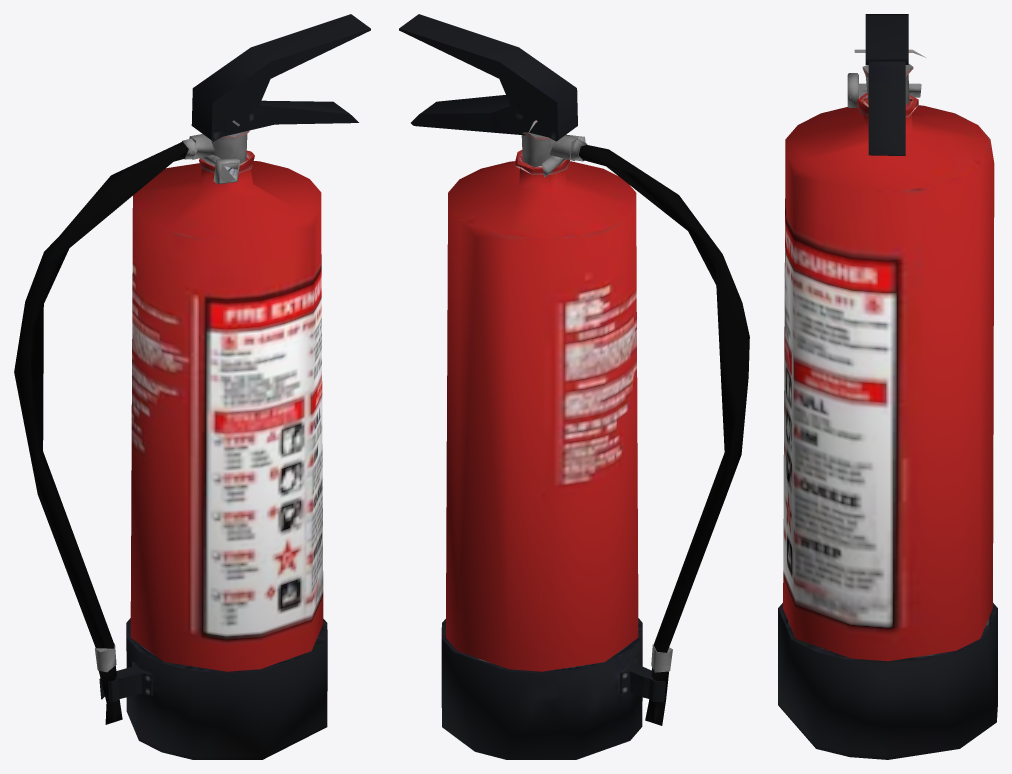
File: fire-ext.lod0.glb
3 renders of one model, left to right at view 1: azimuth 30°, elevation 25°; view 2: azimuth 150°, elevation 25°; view 3: azimuth 270°, elevation 25°, orthographic. The views are drawn at different scales.
Parts seen in each view (by area): view 1: defaultMaterial; view 2: defaultMaterial; view 3: defaultMaterial.
Part boxes in pixels (x1=…): defaultMaterial: x1=14, y1=14, x2=370, y2=759; defaultMaterial: x1=399, y1=14, x2=749, y2=759; defaultMaterial: x1=778, y1=14, x2=997, y2=759.
Bounding box in the file's own units: 0.3232 × 0.5988 × 0.1646.
1 material, 1 textured.
